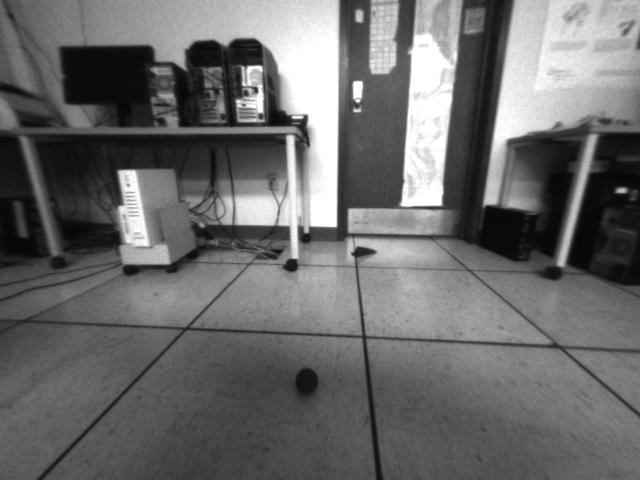dogtoy: (288, 361, 322, 403)
